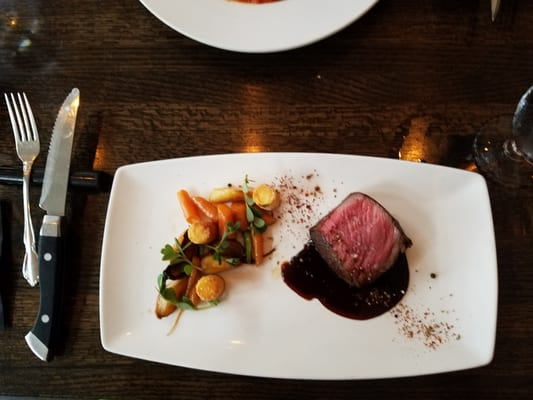burger: (2, 89, 40, 289)
sandwich: (25, 90, 80, 363), (37, 90, 81, 313)
